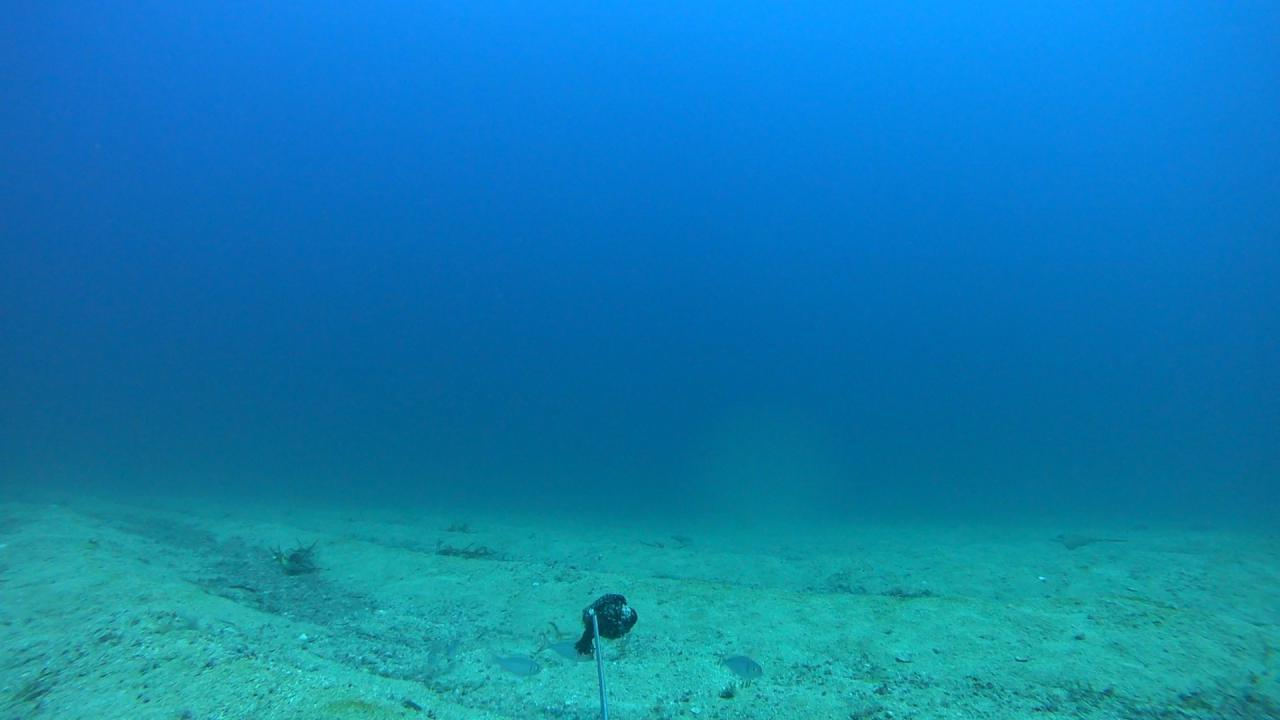dasyatis: (1050, 530, 1128, 550)
pagellus: (487, 647, 541, 681), (539, 638, 595, 666), (716, 654, 762, 682)
